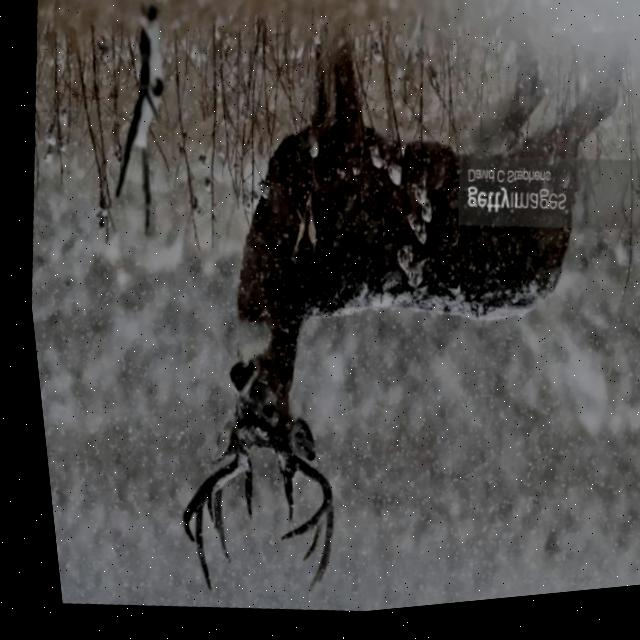L-F: (261, 437, 322, 545)
L-G1: (267, 467, 285, 530)
L-G2: (295, 509, 322, 597)
R-G1: (232, 462, 241, 524)
R-G2: (201, 489, 218, 566)
R-G3: (183, 503, 198, 594)
